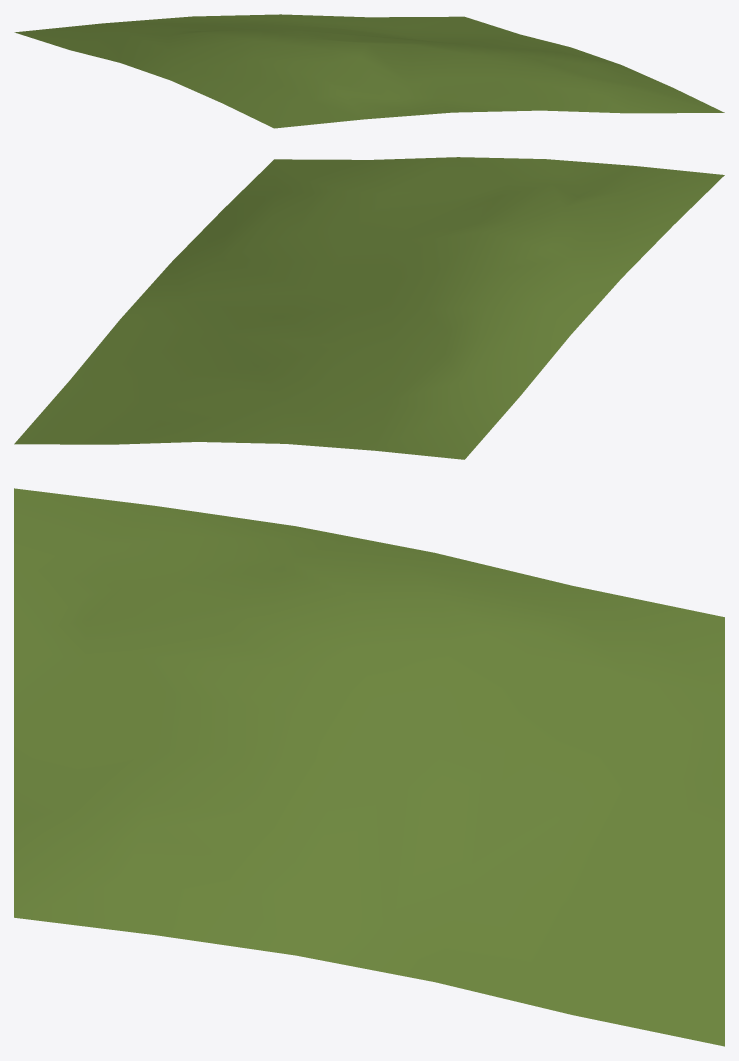
Rendered from rpgpp_ag_terrain_hill_02b_10x10m_2-2m.fbx.
The picture shows the model from 3 angles, top to bottom: view 1: azimuth 30°, elevation 25°; view 2: azimuth 150°, elevation 25°; view 3: azimuth 270°, elevation 25°; orthographic projection. The views are drawn at different scales.
Visible parts, largest first — view 1: rpgpp_ag_terrain_hill_02b_10x10m_2-2m; view 2: rpgpp_ag_terrain_hill_02b_10x10m_2-2m; view 3: rpgpp_ag_terrain_hill_02b_10x10m_2-2m.
Part boxes in pixels (<box>): rpgpp_ag_terrain_hill_02b_10x10m_2-2m: <box>14,14,724,128</box>; rpgpp_ag_terrain_hill_02b_10x10m_2-2m: <box>14,157,724,459</box>; rpgpp_ag_terrain_hill_02b_10x10m_2-2m: <box>14,488,724,1046</box>.
Size of the model in its own units: 10 by 4 by 10.
